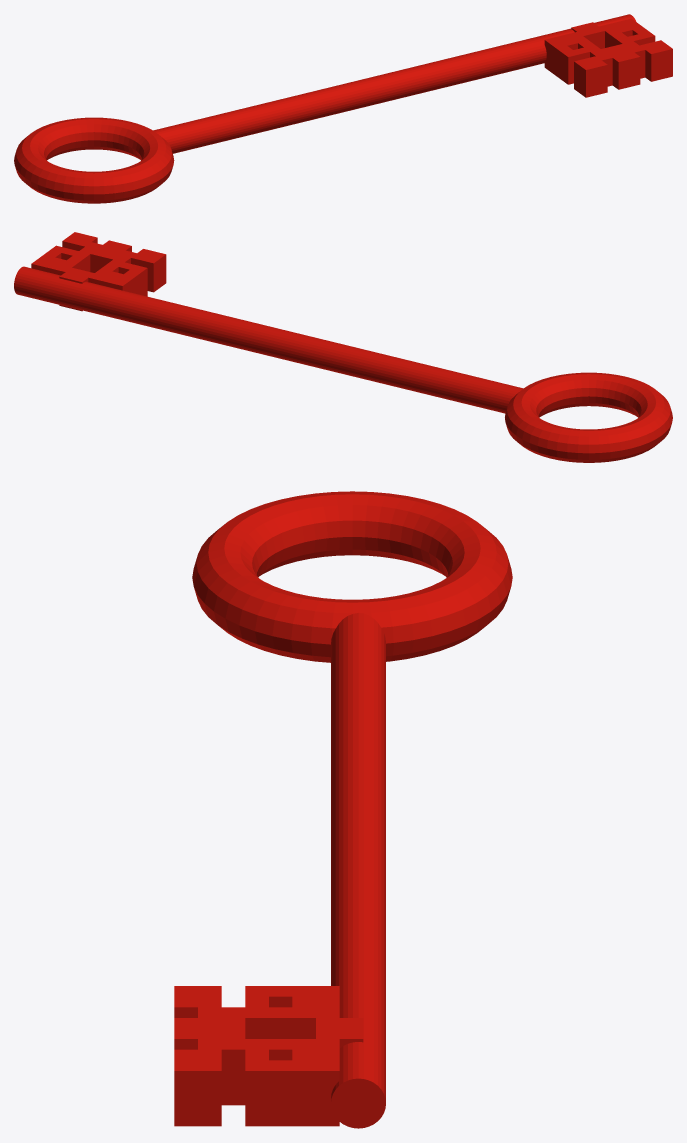
Rendered from TheKey.fbx.
3 views of the same model, one above another, from view 1: azimuth 30°, elevation 25°; view 2: azimuth 150°, elevation 25°; view 3: azimuth 270°, elevation 25° (orthographic). The views are drawn at different scales.
Parts seen in each view (by area): view 1: Torus; view 2: Torus; view 3: Torus.
Part boxes in pixels (box(x1,y1,x2,y2)): Torus: box(14, 14, 672, 203); Torus: box(14, 232, 672, 462); Torus: box(174, 491, 512, 1128).
Size of the model in its own units: 1097 by 50 by 264.
